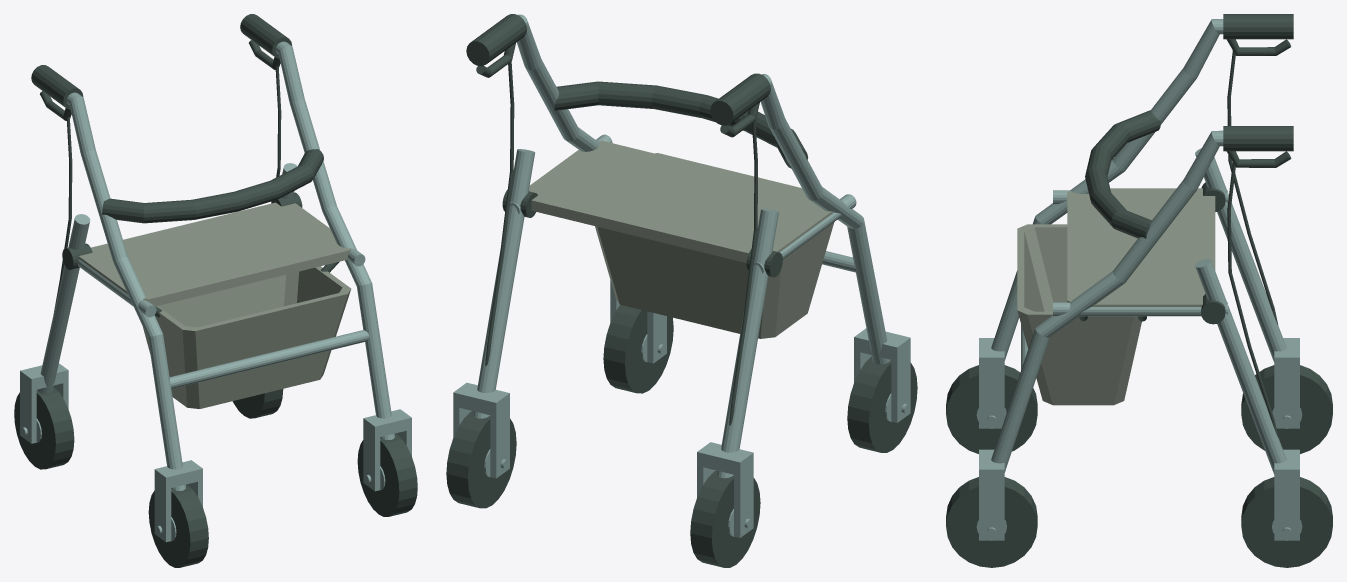
3 renders of one model, left to right at view 1: azimuth 30°, elevation 25°; view 2: azimuth 150°, elevation 25°; view 3: azimuth 270°, elevation 25°, orthographic. The views are drawn at different scales.
Parts seen in each view (by area): view 1: WholeEmptyTaperedUnderseatBag, WholeLowSeatPanel, WholeInclinedFrontToHighGripFrame_-1, WholeInclinedFrontToHighGripFrame_1, WholeFixedBowedUpperCrosspad, WholeSmallAnnularTire_(-1, 0), WholeSmallAnnularTire_(1, 0), WholeSmallAnnularTire_(-1, 1), WholeLowFrontCrossmember, WholeSeparateTrailingLeg_-1, WholeOpenCasterFork_(1, 0), WholeOpenCasterFork_(-1, 0) (+6 smaller); view 2: WholeLowSeatPanel, WholeEmptyTaperedUnderseatBag, WholeInclinedFrontToHighGripFrame_-1, WholeFixedBowedUpperCrosspad, WholeSmallAnnularTire_(-1, 1), WholeSmallAnnularTire_(1, 1), WholeSmallAnnularTire_(-1, 0), WholeSeparateTrailingLeg_-1, WholeSeparateTrailingLeg_1, WholeSmallAnnularTire_(1, 0), WholeOpenCasterFork_(-1, 1), WholeOpenCasterFork_(1, 1) (+8 smaller); view 3: WholeLowSeatPanel, WholeEmptyTaperedUnderseatBag, WholeInclinedFrontToHighGripFrame_1, WholeSmallAnnularTire_(1, 0), WholeSmallAnnularTire_(1, 1), WholeInclinedFrontToHighGripFrame_-1, WholeSmallAnnularTire_(-1, 0), WholeFixedBowedUpperCrosspad, WholeSmallAnnularTire_(-1, 1), WholeSeparateTrailingLeg_1, WholeSeparateTrailingLeg_-1, WholeOpenCasterFork_(1, 1) (+11 smaller).
Boxes of the visible parts, x1,y1,x2,y2 form: WholeEmptyTaperedUnderseatBag: [143, 266, 351, 408]; WholeLowSeatPanel: [78, 202, 351, 306]; WholeInclinedFrontToHighGripFrame_-1: [66, 92, 185, 490]; WholeInclinedFrontToHighGripFrame_1: [275, 41, 394, 440]; WholeFixedBowedUpperCrosspad: [102, 149, 323, 223]; WholeSmallAnnularTire_(-1, 0): [148, 484, 208, 567]; WholeSmallAnnularTire_(1, 0): [357, 433, 417, 516]; WholeSmallAnnularTire_(-1, 1): [14, 387, 74, 469]; WholeLowFrontCrossmember: [169, 330, 369, 388]; WholeSeparateTrailingLeg_-1: [37, 214, 90, 393]; WholeOpenCasterFork_(1, 0): [363, 409, 411, 491]; WholeOpenCasterFork_(-1, 0): [154, 460, 202, 542]; WholeLowSeatPanel: [529, 140, 838, 262]; WholeEmptyTaperedUnderseatBag: [595, 153, 834, 338]; WholeInclinedFrontToHighGripFrame_-1: [760, 74, 890, 364]; WholeFixedBowedUpperCrosspad: [554, 81, 808, 168]; WholeSmallAnnularTire_(-1, 1): [690, 470, 760, 567]; WholeSmallAnnularTire_(1, 1): [446, 411, 516, 508]; WholeSmallAnnularTire_(-1, 0): [847, 356, 917, 452]; WholeSeparateTrailingLeg_-1: [717, 208, 778, 478]; WholeSeparateTrailingLeg_1: [473, 149, 535, 418]; WholeSmallAnnularTire_(1, 0): [603, 305, 673, 393]; WholeOpenCasterFork_(-1, 1): [697, 442, 753, 537]; WholeOpenCasterFork_(1, 1): [453, 382, 509, 478]; WholeLowSeatPanel: [1067, 188, 1215, 306]; WholeEmptyTaperedUnderseatBag: [1017, 224, 1141, 405]; WholeInclinedFrontToHighGripFrame_1: [991, 130, 1223, 472]; WholeSmallAnnularTire_(1, 0): [946, 477, 1037, 567]; WholeSmallAnnularTire_(1, 1): [1241, 477, 1332, 567]; WholeInclinedFrontToHighGripFrame_-1: [991, 19, 1223, 360]; WholeSmallAnnularTire_(-1, 0): [946, 365, 1037, 453]; WholeFixedBowedUpperCrosspad: [1085, 110, 1160, 238]; WholeSmallAnnularTire_(-1, 1): [1241, 365, 1332, 453]; WholeSeparateTrailingLeg_1: [1195, 258, 1286, 474]; WholeSeparateTrailingLeg_-1: [1195, 148, 1286, 362]; WholeOpenCasterFork_(1, 1): [1274, 449, 1299, 540].
Bounding box in the file's own units: 0.624 × 0.945 × 0.76.
